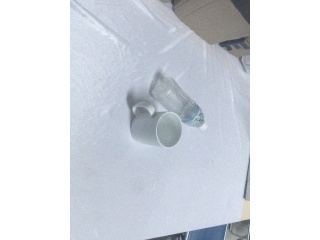bottle: (149, 72, 207, 131)
cup: (130, 100, 182, 148)
